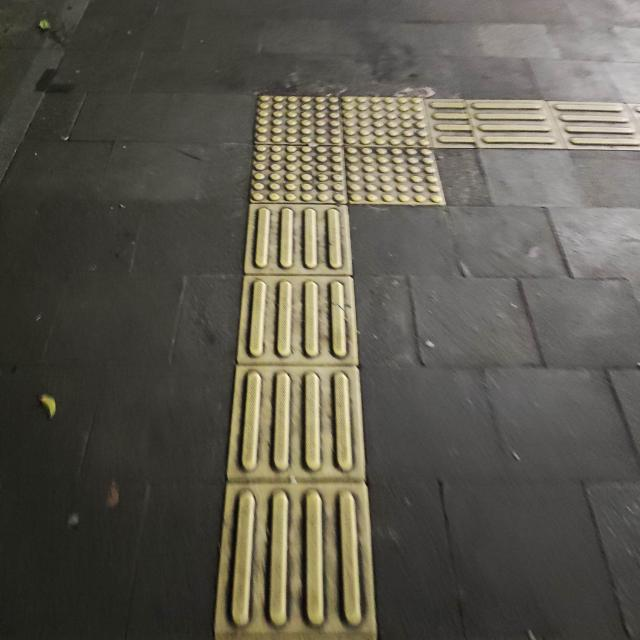kanan: (234, 63, 581, 260)
